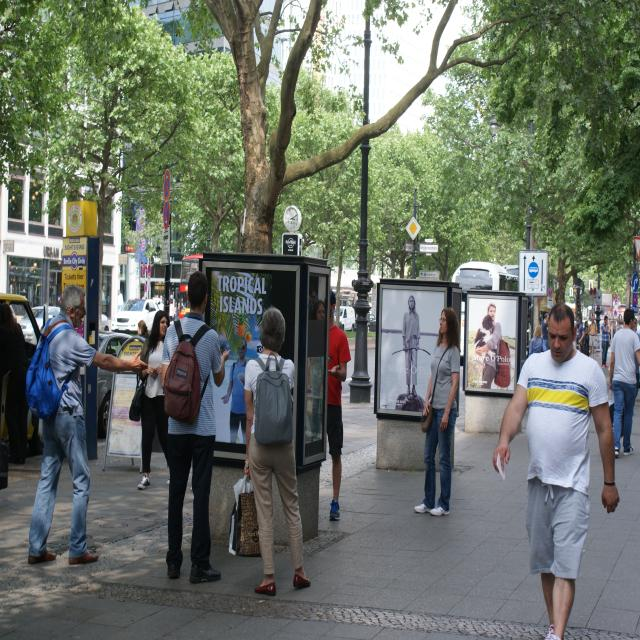body: (490, 299, 622, 640), (24, 283, 151, 568), (227, 305, 313, 599), (160, 270, 232, 587), (412, 305, 462, 518), (128, 309, 170, 491), (326, 288, 352, 520), (0, 302, 31, 466), (607, 307, 640, 458), (221, 338, 248, 443), (474, 302, 502, 390), (402, 294, 420, 397), (307, 357, 321, 441), (631, 317, 640, 414), (599, 314, 611, 370), (528, 324, 548, 357), (587, 316, 598, 360), (574, 315, 585, 352), (311, 296, 327, 320), (136, 319, 151, 344), (541, 312, 550, 352), (583, 320, 590, 358), (116, 289, 124, 313), (174, 301, 180, 328), (169, 300, 175, 325), (101, 285, 106, 312), (609, 322, 614, 342), (180, 298, 188, 309), (158, 294, 165, 304), (618, 318, 624, 329), (58, 294, 62, 306), (152, 293, 158, 300)
